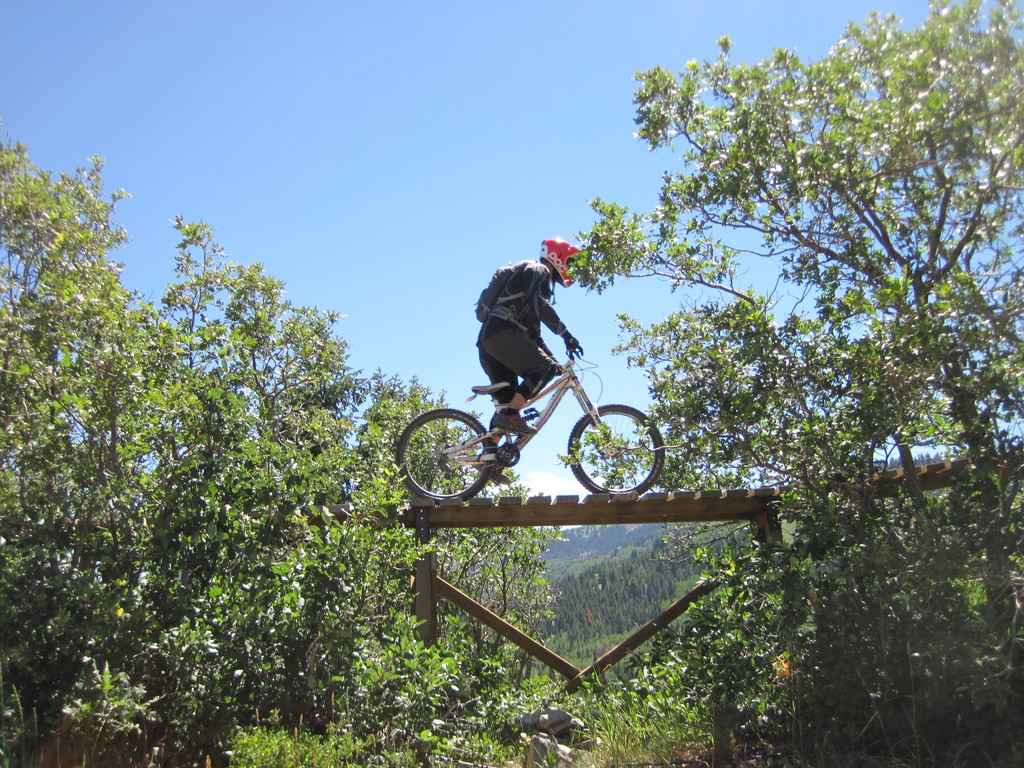Bike_toward: (404, 349, 713, 530)
